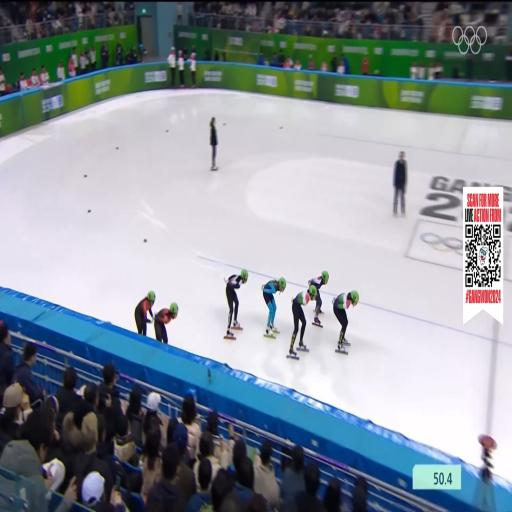Skater: (287, 285, 317, 359), (333, 291, 359, 354), (225, 269, 248, 339), (262, 278, 286, 338), (309, 271, 329, 327), (155, 303, 178, 344), (135, 291, 155, 336)
